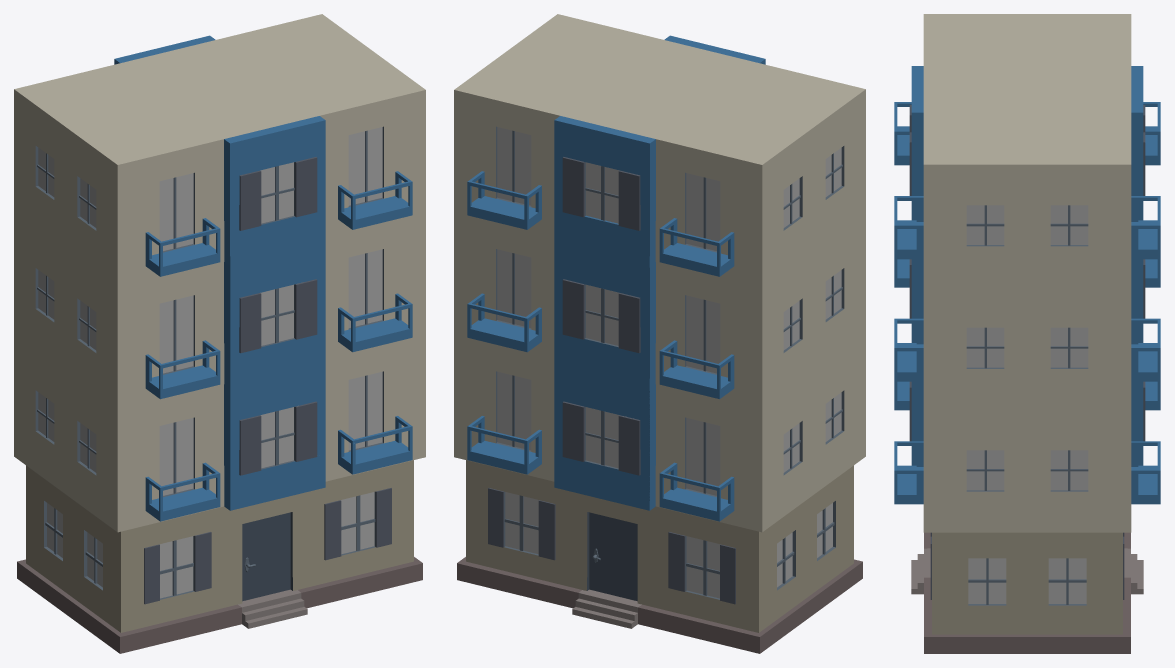
The model's file is FL-House Blue.fbx.
3 renders of one model, left to right at view 1: azimuth 30°, elevation 25°; view 2: azimuth 150°, elevation 25°; view 3: azimuth 270°, elevation 25°, orthographic.
Parts seen in each view (by area): view 1: immeuble; view 2: immeuble; view 3: immeuble.
Part boxes in pixels (left/top/right/bottom): immeuble: left=14, top=14, right=425, bottom=653; immeuble: left=454, top=14, right=865, bottom=653; immeuble: left=894, top=14, right=1160, bottom=653.
Bounding box in the file's own units: 4482 × 6804 × 3346.
